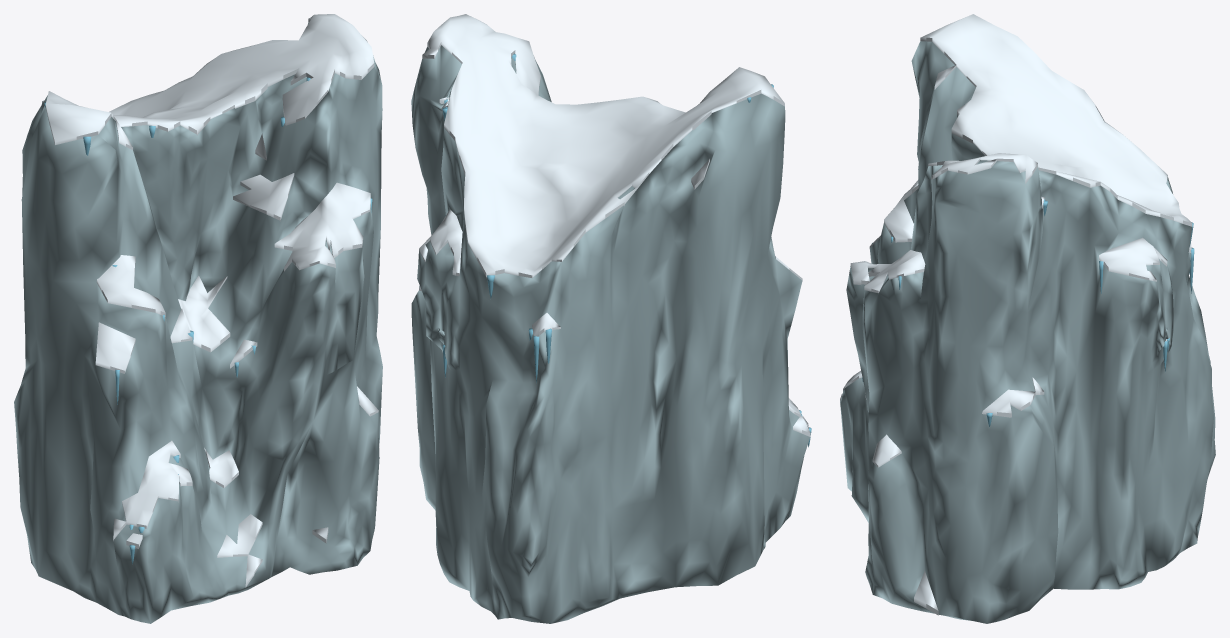
File: IceRegion_Wall.fbx
3 views of the same model, side by side, from view 1: azimuth 30°, elevation 25°; view 2: azimuth 150°, elevation 25°; view 3: azimuth 270°, elevation 25° (orthographic). The views are drawn at different scales.
Visible parts, largest first — view 1: IceRegion_Wall_LOD0; view 2: IceRegion_Wall_LOD0; view 3: IceRegion_Wall_LOD0.
Boxes of the visible parts, x1=… form: IceRegion_Wall_LOD0: x1=14, y1=14, x2=382, y2=623; IceRegion_Wall_LOD0: x1=411, y1=14, x2=811, y2=623; IceRegion_Wall_LOD0: x1=840, y1=14, x2=1215, y2=623.
Size of what is drawn, in the model's own units: 6 by 8.31 by 6.08.
